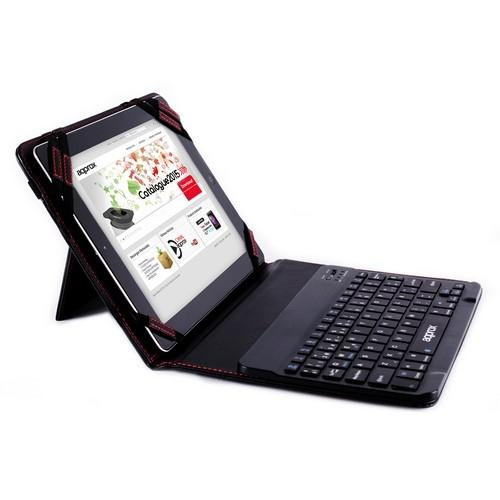Teclado: (244, 263, 482, 409)
